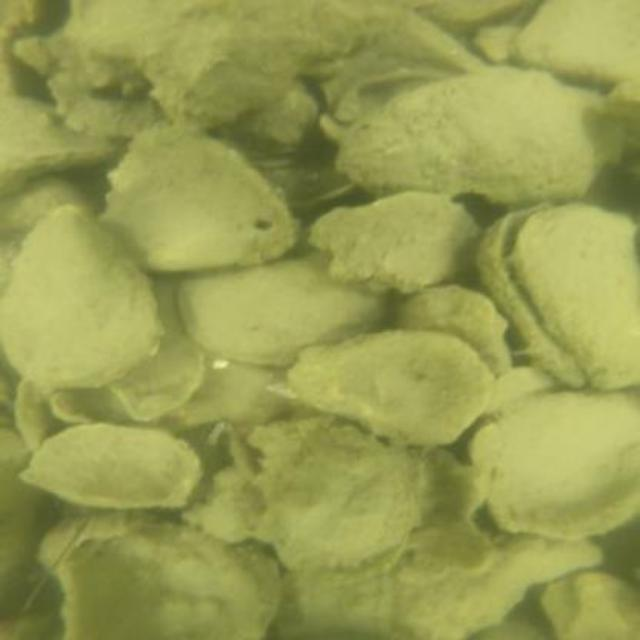Oyster-Closed: (272, 533, 609, 638), (137, 0, 402, 126), (337, 68, 589, 200), (98, 117, 304, 271), (0, 205, 161, 394), (160, 255, 386, 371), (471, 390, 638, 539), (289, 331, 494, 449), (253, 430, 408, 567), (9, 418, 209, 512), (0, 96, 117, 200), (402, 280, 516, 378), (506, 0, 638, 84), (107, 352, 209, 424)
Oyster-Open: (475, 199, 638, 393)
